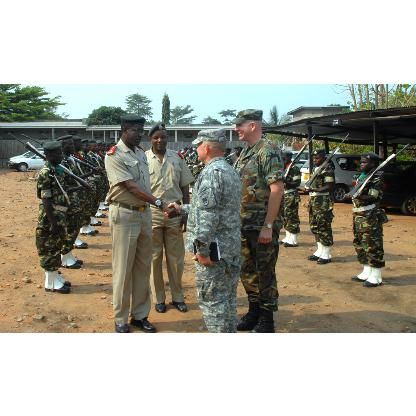gun: (346, 142, 410, 194), (303, 130, 347, 191)
